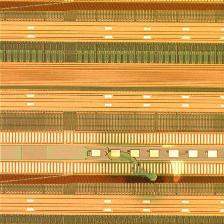PARTICLE: (102, 143, 168, 191)
